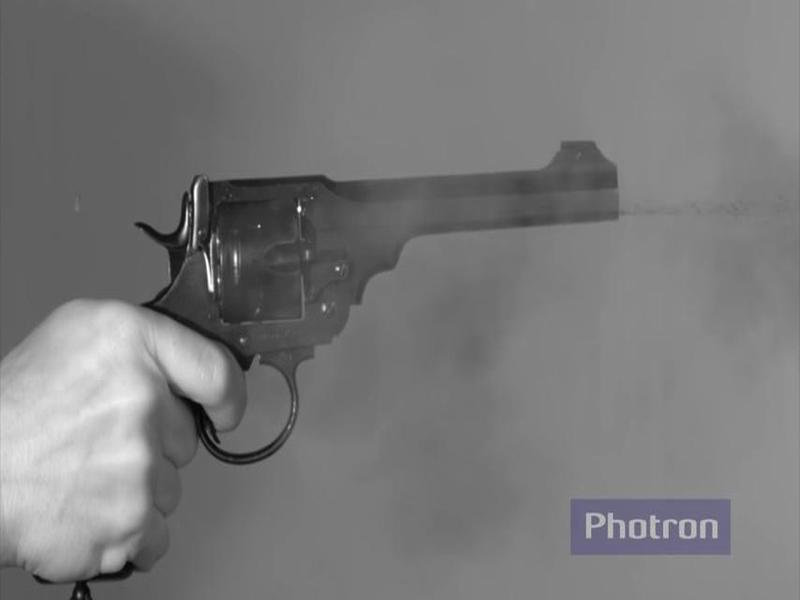Revolver: (97, 118, 632, 444)
